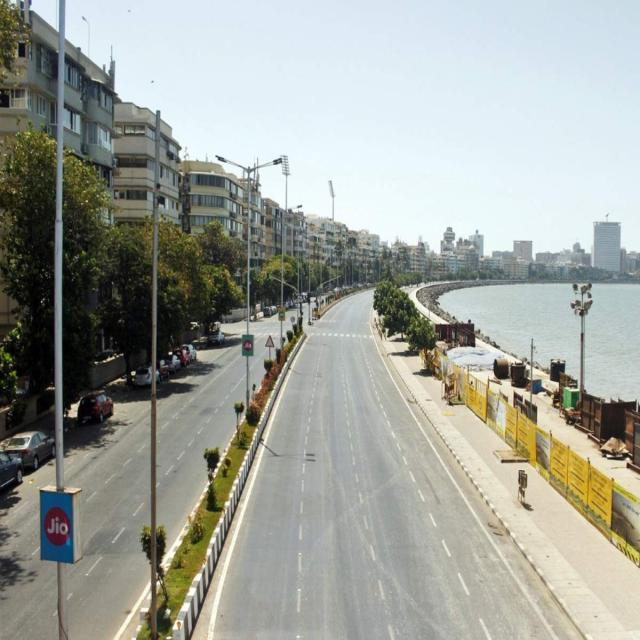Clean road: (0, 301, 640, 640)
